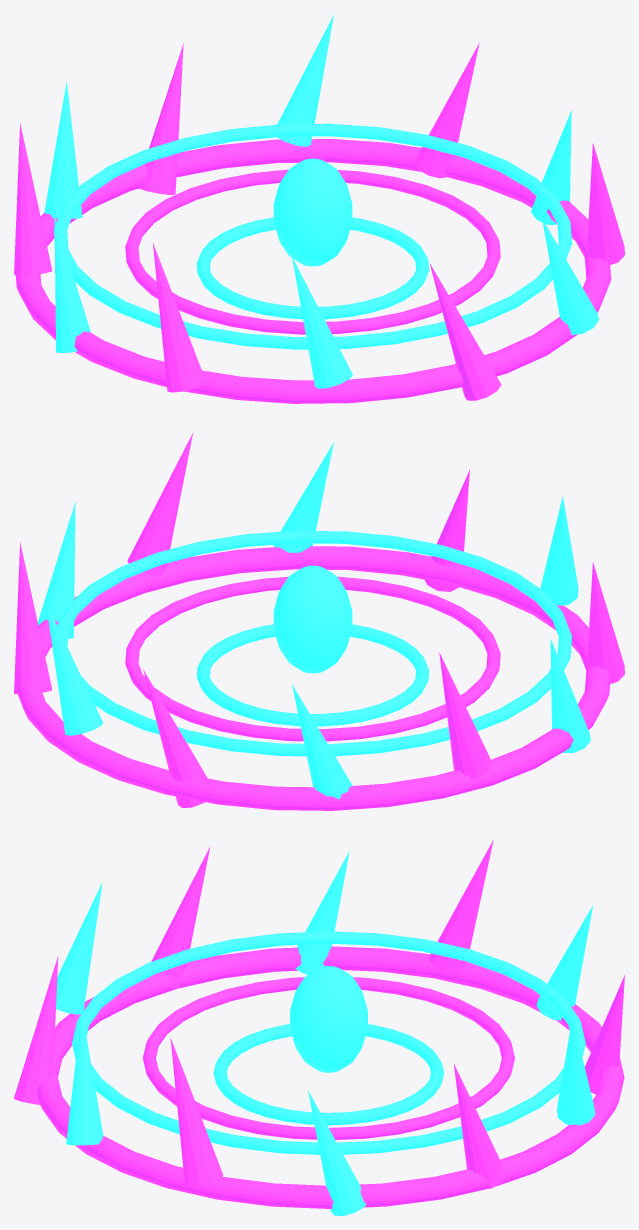
The model's file is matron_crescendo.glb.
The picture shows the model from 3 angles, top to bottom: view 1: azimuth 30°, elevation 25°; view 2: azimuth 150°, elevation 25°; view 3: azimuth 270°, elevation 25°; orthographic projection.
Visible parts, largest first — view 1: matron crescendo crown; view 2: matron crescendo crown; view 3: matron crescendo crown.
Part boxes in pixels (left/top/right/bottom): matron crescendo crown: left=14, top=15, right=624, bottom=403; matron crescendo crown: left=14, top=432, right=624, bottom=810; matron crescendo crown: left=14, top=840, right=624, bottom=1215.
Size of the model in its own units: 3.67 by 1.06 by 3.71.
